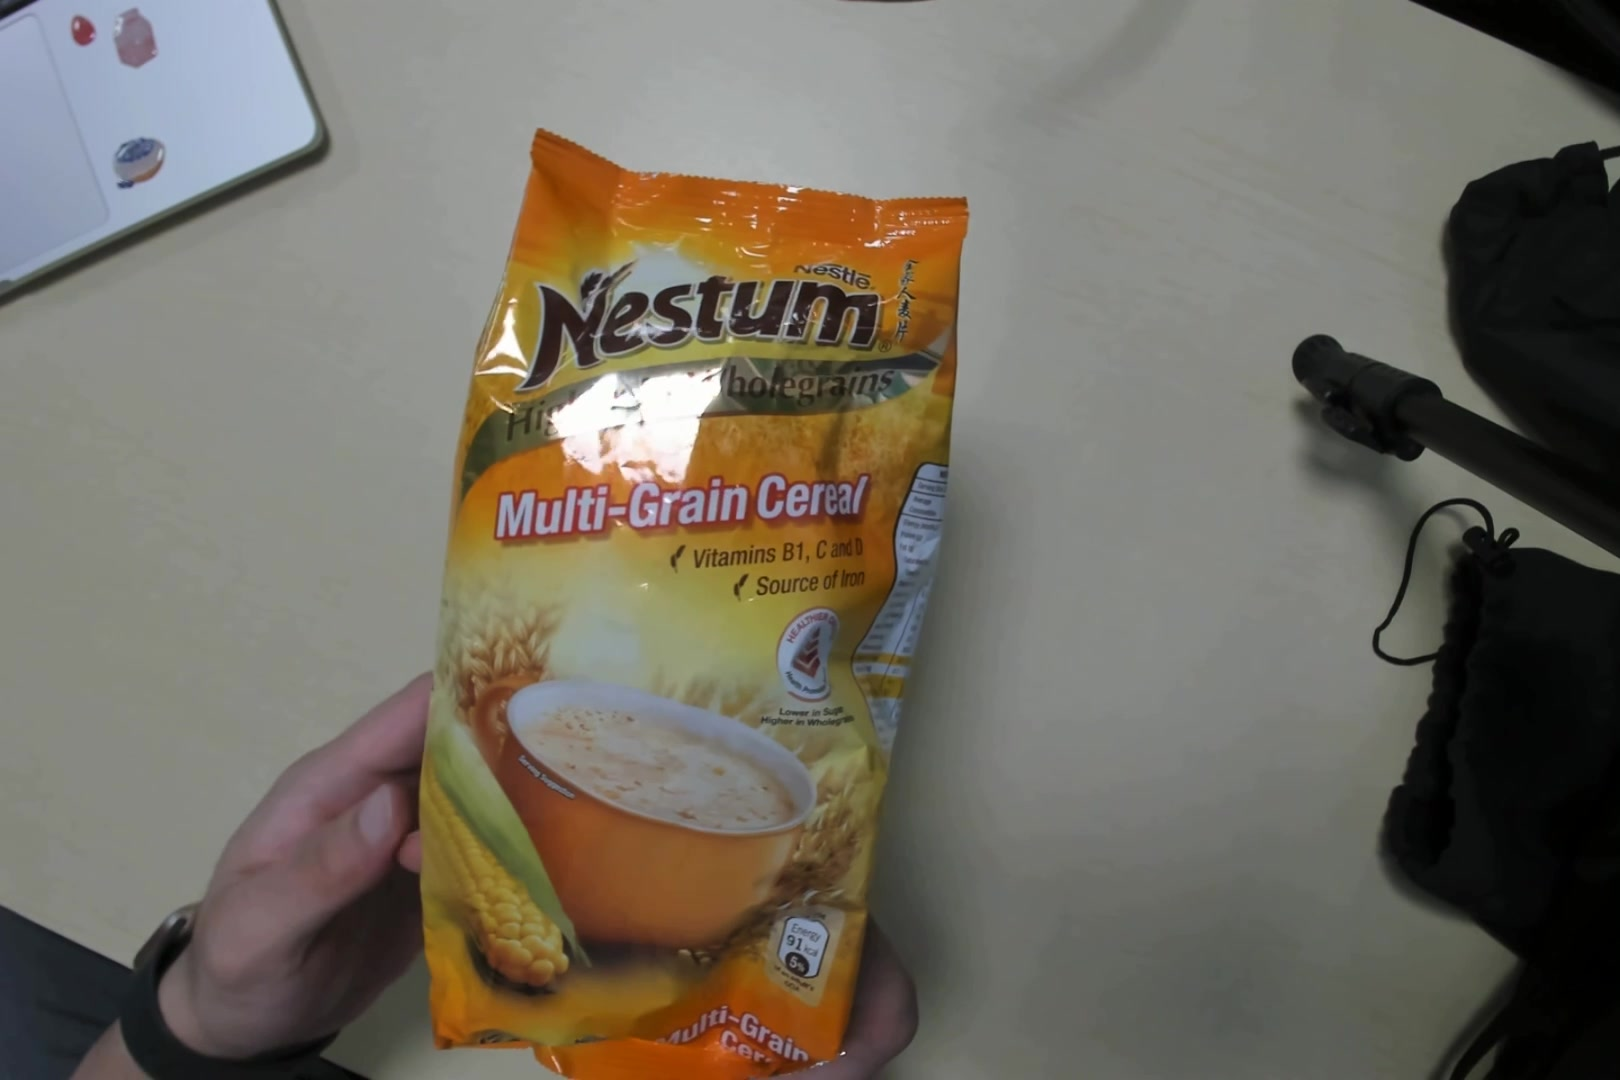RolledOatsInstantOatmeal_200-299g_NonHalal_Healthy: (416, 128, 939, 1080)
